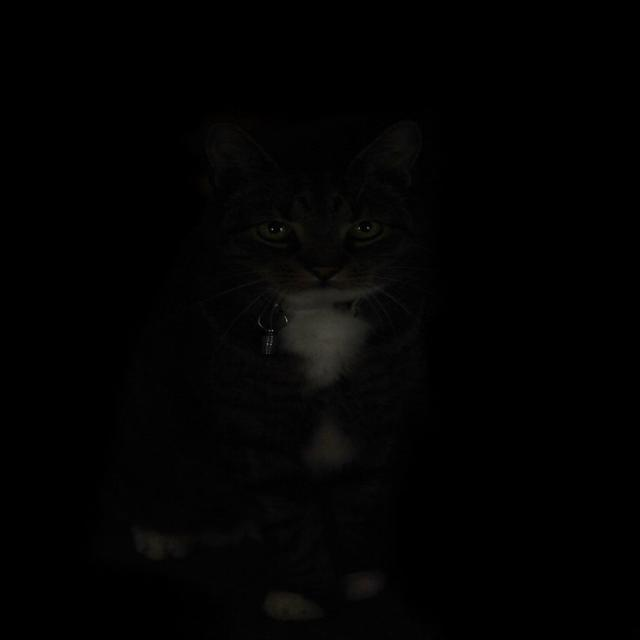Cat: (115, 114, 494, 618)
